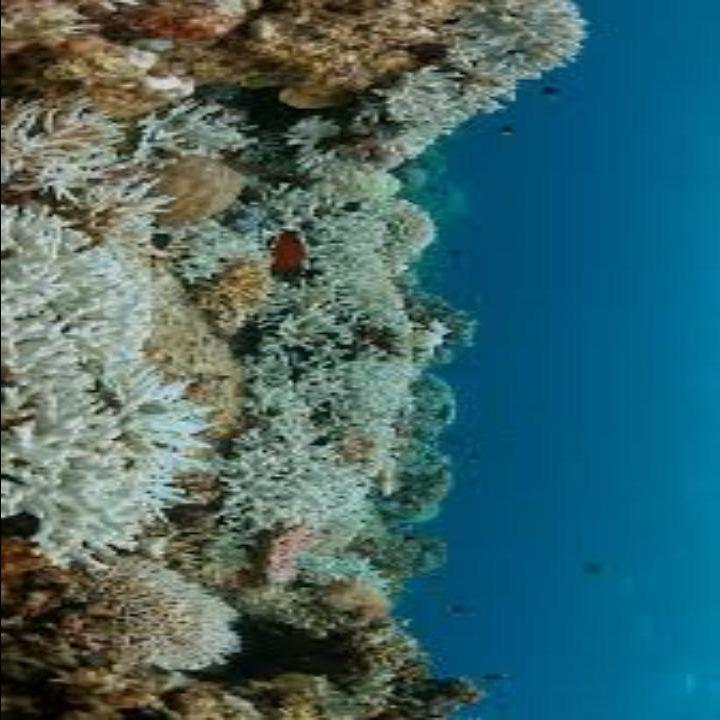Bleached disease: (11, 24, 544, 628)
